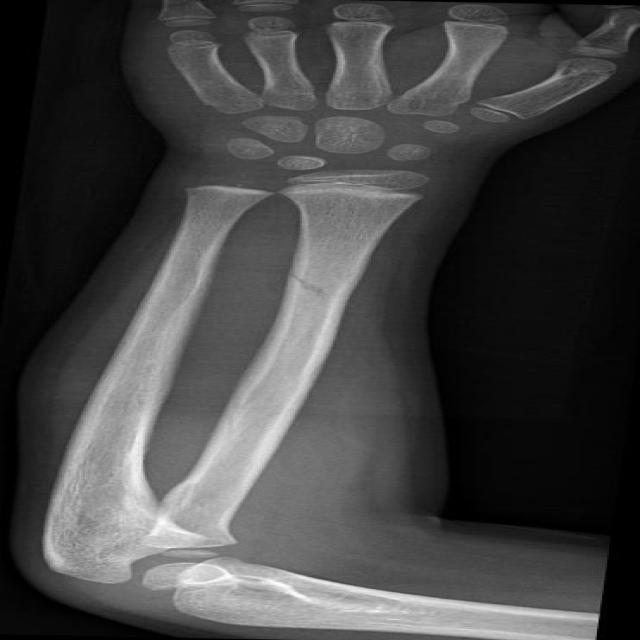Oblique Displaced: (248, 260, 374, 319)
